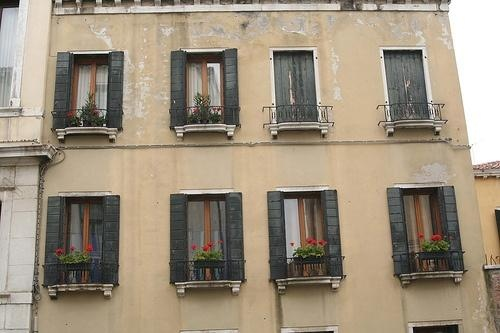pottedplant: (62, 96, 107, 132), (183, 238, 227, 273), (52, 244, 99, 274), (184, 94, 225, 128), (291, 237, 333, 270), (414, 232, 458, 263)
